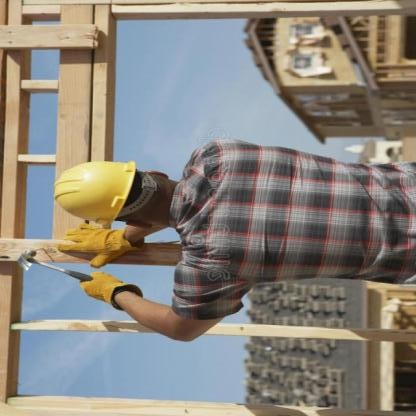yellow: (47, 157, 136, 230)
